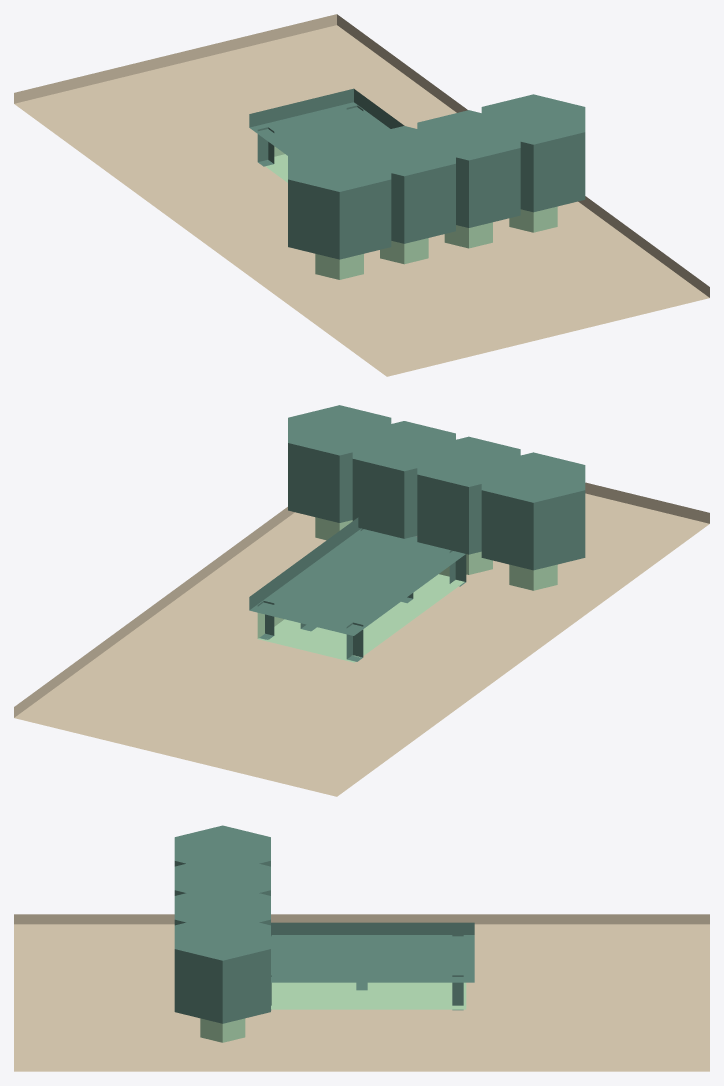
Rendered from sports_ground.glb.
The picture shows the model from 3 angles, top to bottom: view 1: azimuth 30°, elevation 25°; view 2: azimuth 150°, elevation 25°; view 3: azimuth 270°, elevation 25°; orthographic projection. The views are drawn at different scales.
Visible parts, largest first — view 1: Foundation, Details, Roof; view 2: Foundation, Details, Roof, Walls, Frame; view 3: Foundation, Details, Roof, Walls, Frame.
Boxes of the visible parts, x1,y1,x2,y2 form: Foundation: [14, 14, 709, 376]; Details: [288, 94, 585, 279]; Roof: [249, 88, 404, 155]; Foundation: [14, 482, 709, 796]; Details: [288, 405, 585, 590]; Roof: [249, 517, 465, 635]; Walls: [257, 566, 464, 662]; Frame: [257, 528, 466, 661]; Foundation: [14, 914, 709, 1071]; Details: [174, 825, 270, 1042]; Roof: [271, 922, 474, 982]; Walls: [271, 982, 466, 1009]; Frame: [271, 934, 463, 1010].
Size of the model in its own units: 20 by 6.65 by 40.
